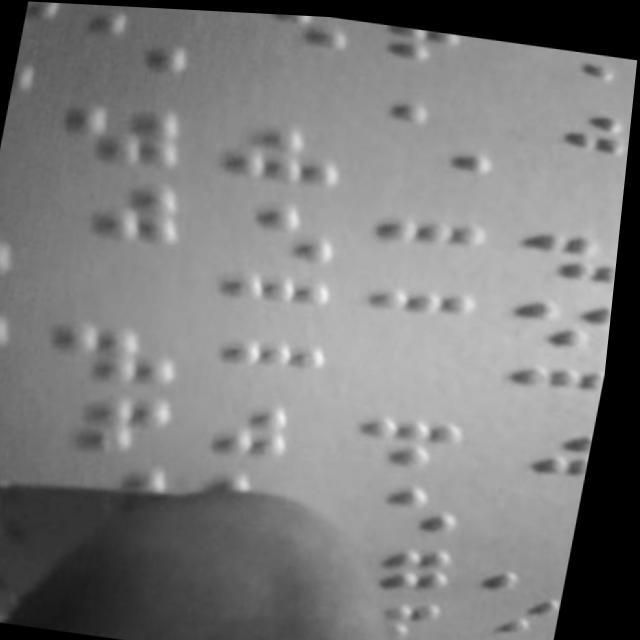braiile: (45, 384, 192, 472), (61, 100, 208, 182), (51, 314, 194, 396), (62, 176, 199, 257), (220, 116, 352, 199), (218, 185, 348, 266), (352, 403, 476, 480), (342, 472, 472, 545), (220, 331, 341, 409), (221, 263, 342, 340), (77, 35, 202, 108), (376, 277, 487, 353), (383, 205, 497, 277), (520, 99, 634, 170), (392, 134, 502, 204), (231, 10, 361, 69), (521, 44, 633, 112), (524, 216, 624, 287), (518, 283, 619, 353), (512, 352, 613, 419), (505, 414, 602, 480)
